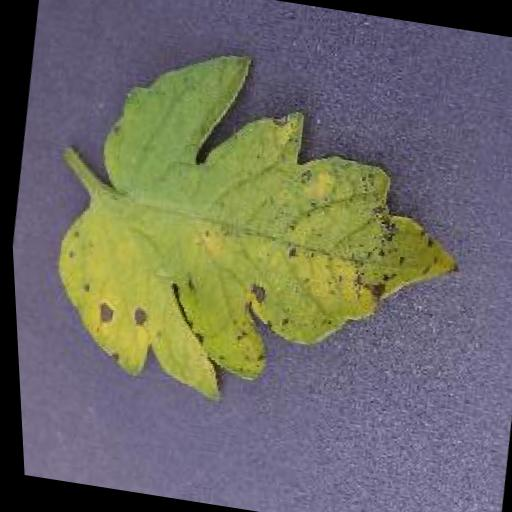Septoria: (23, 26, 499, 436)
